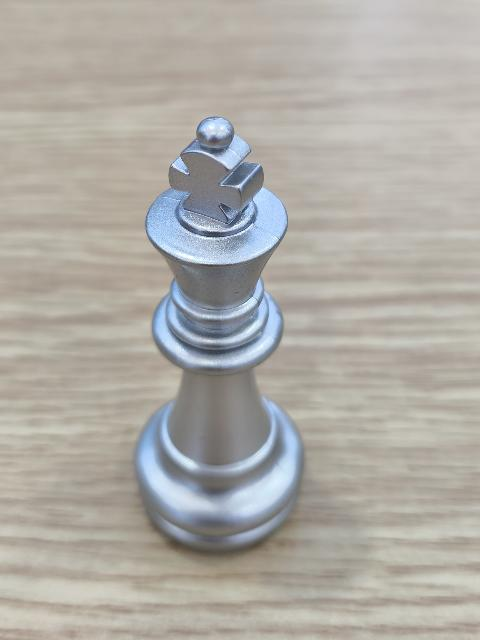white_king: (134, 116, 308, 552)
